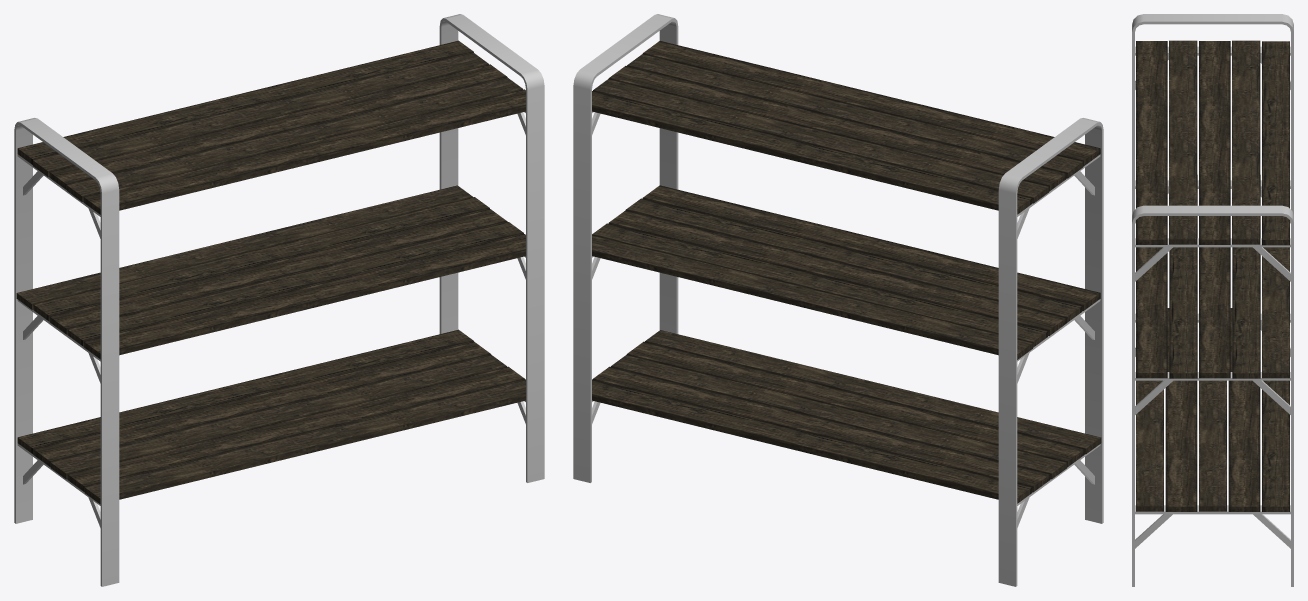
File: shelf_mx_2.fbx
3 views of the same model, side by side, from view 1: azimuth 30°, elevation 25°; view 2: azimuth 150°, elevation 25°; view 3: azimuth 270°, elevation 25° (orthographic). The views are drawn at different scales.
Parts seen in each view (by area): view 1: shelf_mx_2; view 2: shelf_mx_2; view 3: shelf_mx_2.
Part boxes in pixels (x1,y1,x2,y2): shelf_mx_2: [14, 14, 544, 586]; shelf_mx_2: [573, 14, 1103, 586]; shelf_mx_2: [1132, 14, 1293, 586].
Size of the model in its own units: 1.6 by 0.55 by 1.4.
